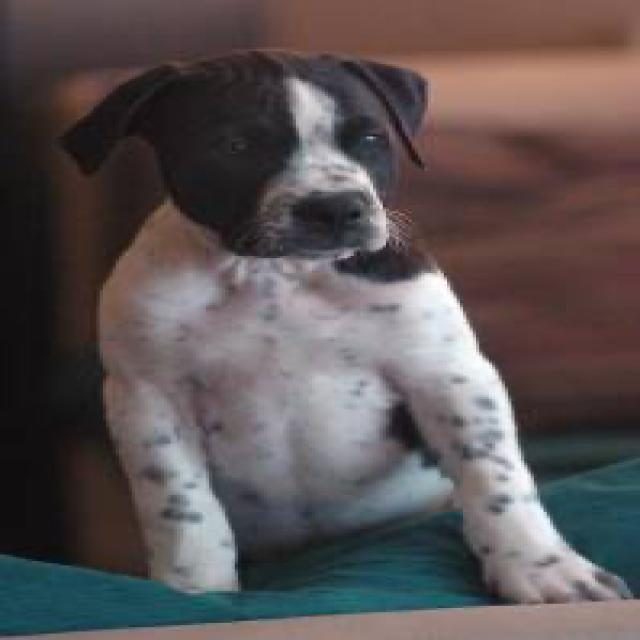dog: (58, 49, 424, 256)
